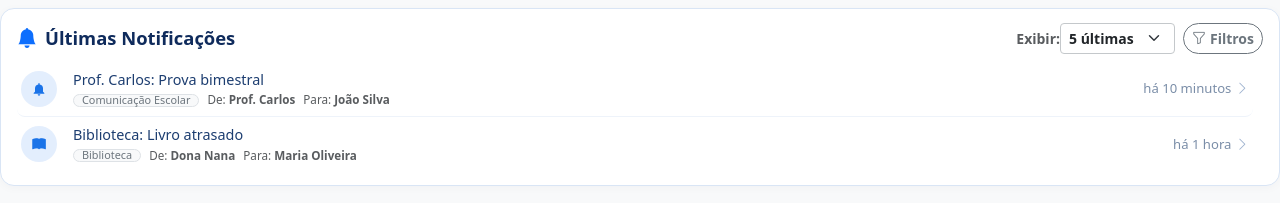
LatestUpdates Component › dispara fetch sob demanda ao alterar a quantidade para 25 ou 50
The image size is (1280, 203).
Select "25 últimas" in the dropdown named "Selecionar quantidade de notificações para carregar" at x=1118, y=38, box [1060,23,1175,54]
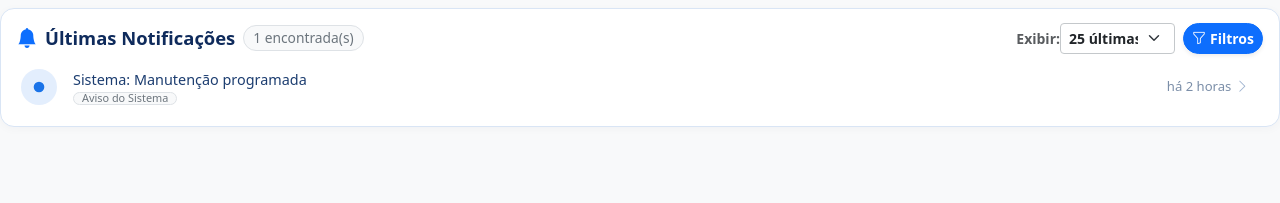
Result: the text "Sistema: Manutenção programada" is shown at [73,69,307,91]
